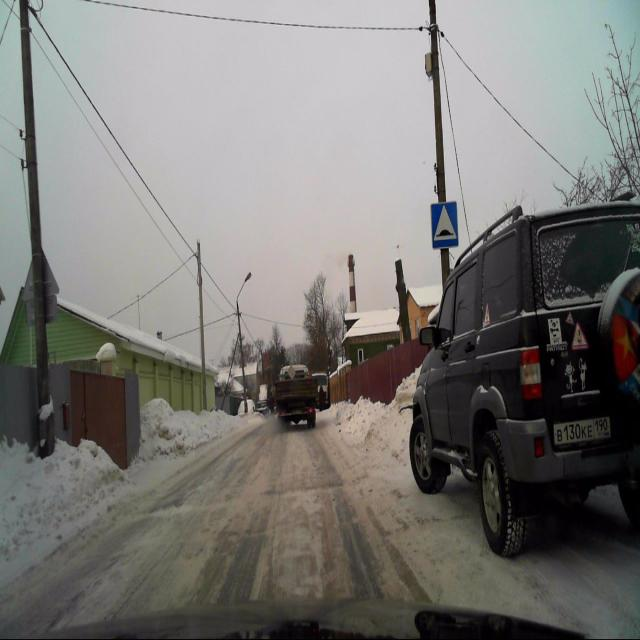road sign: (431, 202, 458, 247)
